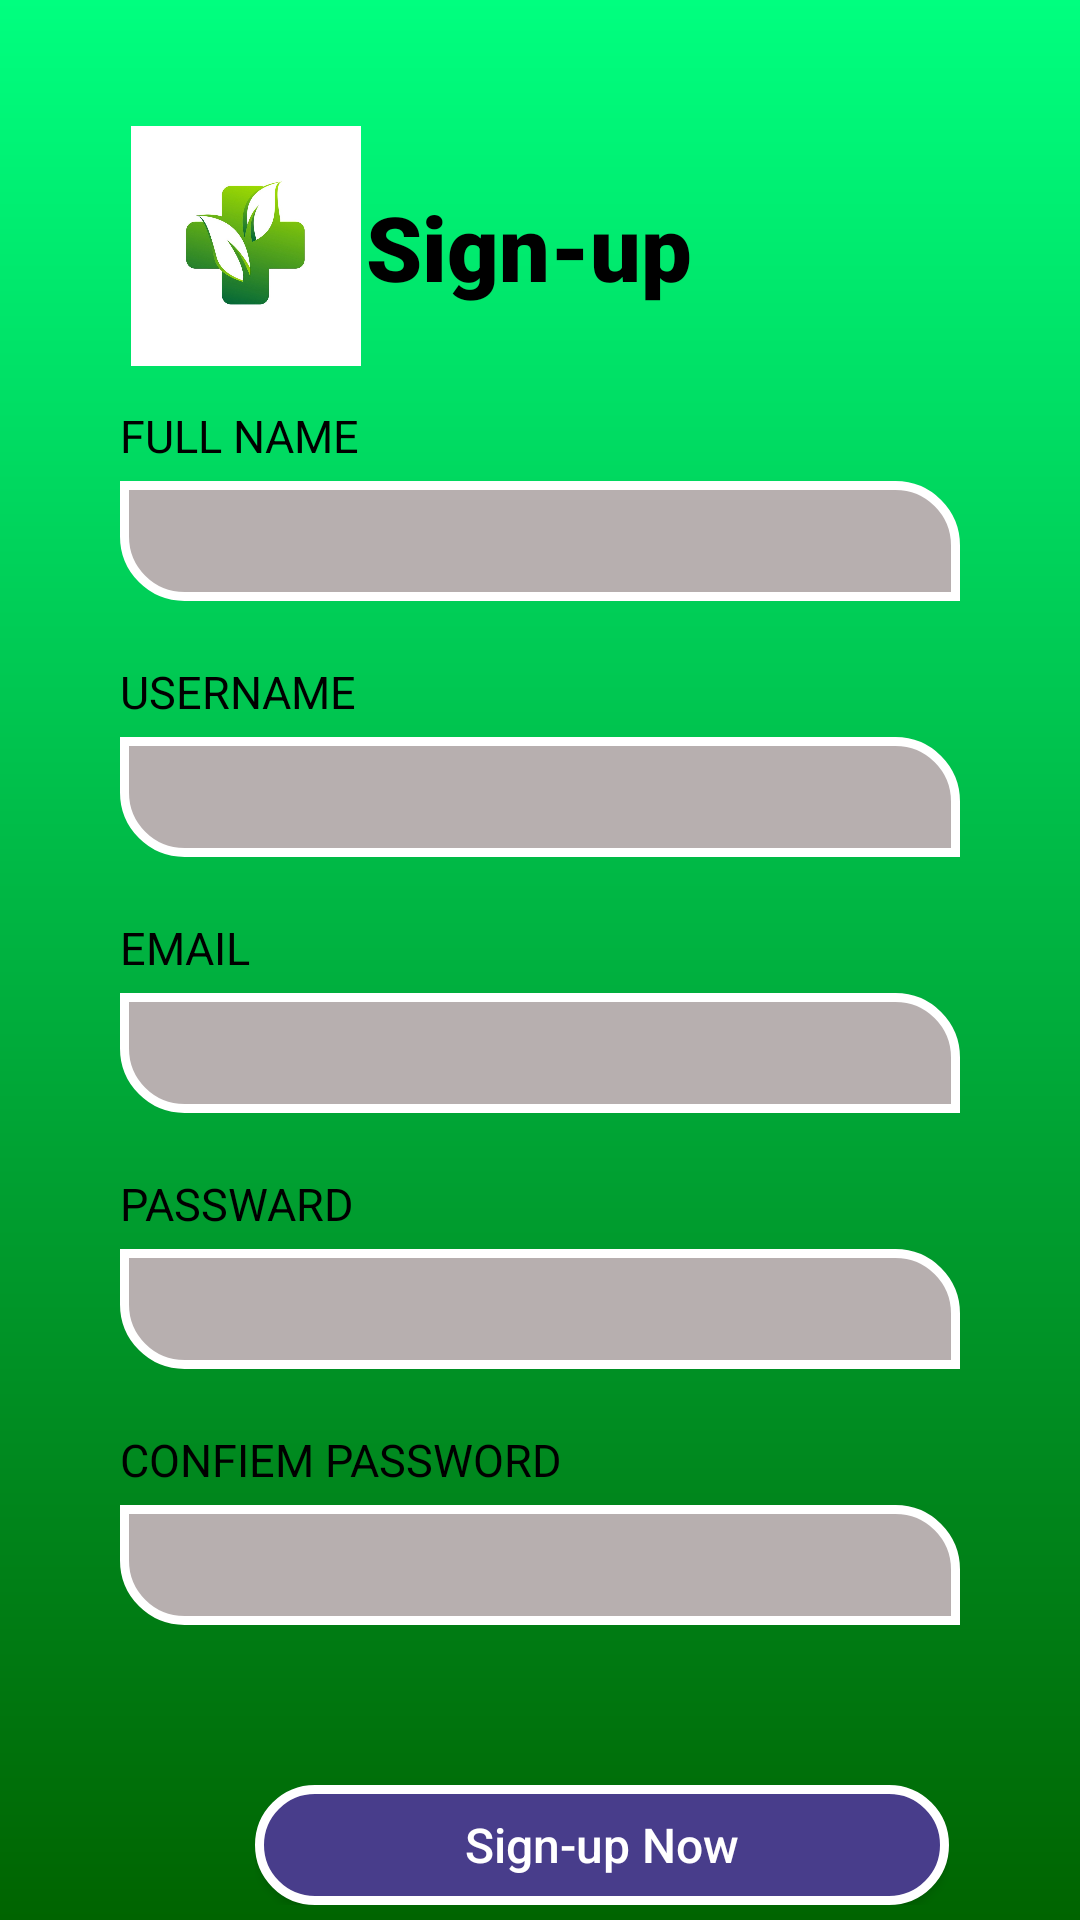

Icons on this 1080 × 1920 Android screen, each with its box as (x1, y1, x2, y2):
mediplus: (131, 126, 361, 366)
